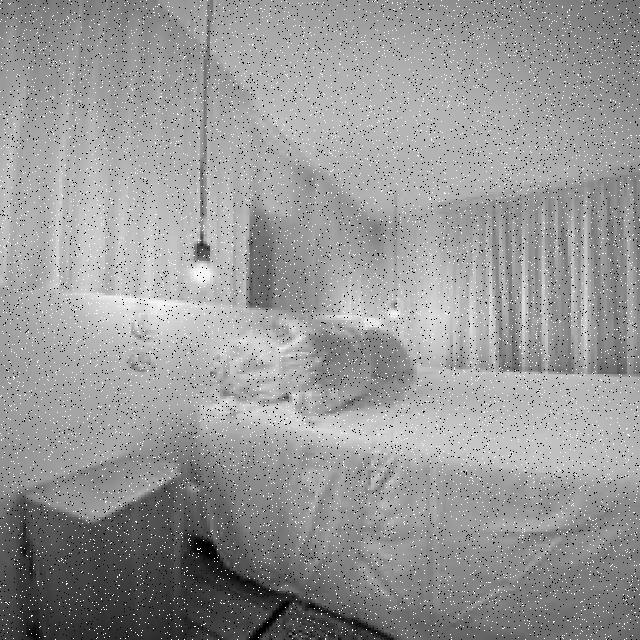bed: (195, 310, 640, 640)
